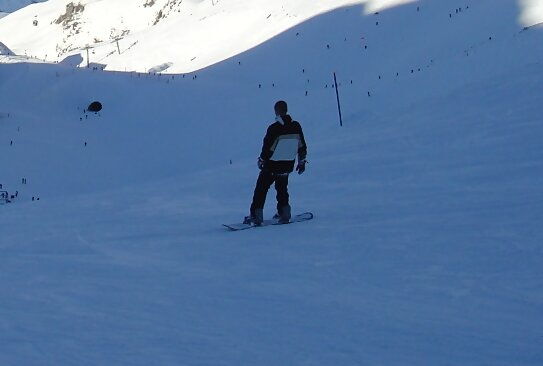person: (240, 95, 312, 227)
